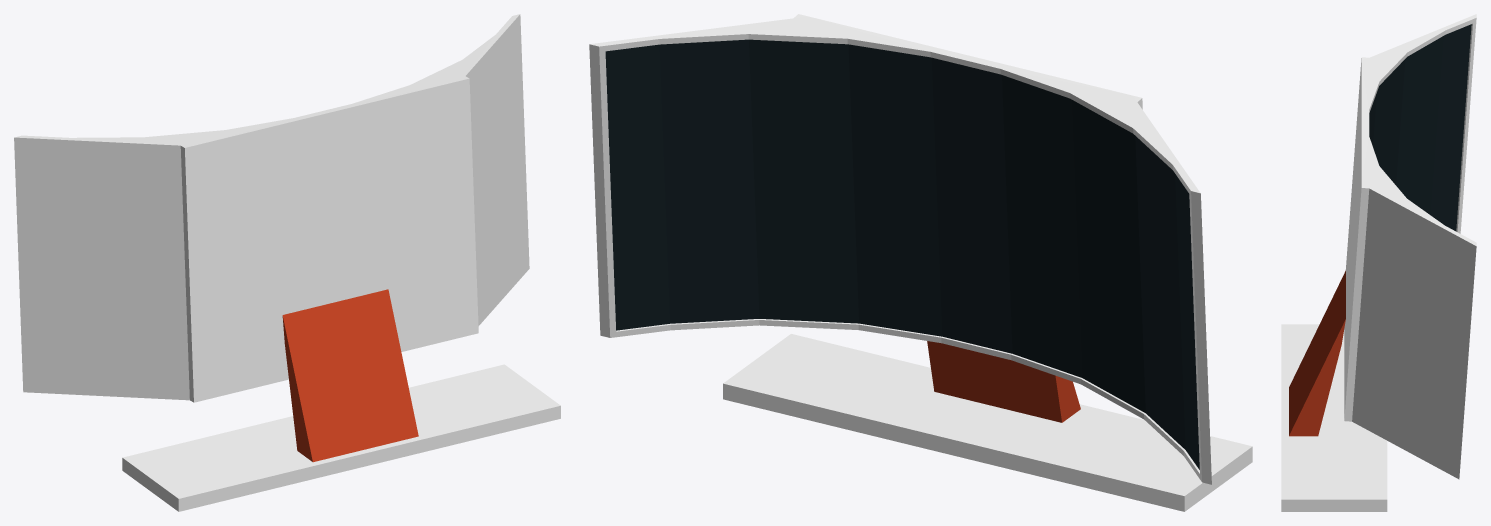
File: monitor Y up (1).fbx
3 renders of one model, left to right at view 1: azimuth 30°, elevation 25°; view 2: azimuth 150°, elevation 25°; view 3: azimuth 270°, elevation 25°, orthographic. The views are drawn at different scales.
Visible parts, largest first — view 1: Plane.001; view 2: Plane.001; view 3: Plane.001.
Boxes of the visible parts, box(x1,y1,x2,y2) form: Plane.001: box(14, 14, 560, 511); Plane.001: box(589, 14, 1252, 511); Plane.001: box(1281, 14, 1476, 511).
Bounding box in the file's own units: 168 × 102 × 59.74.
